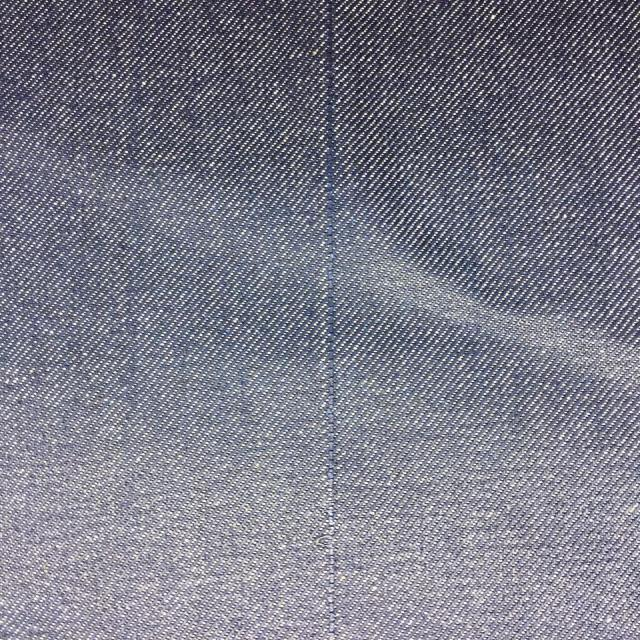Line: (322, 0, 335, 640)
